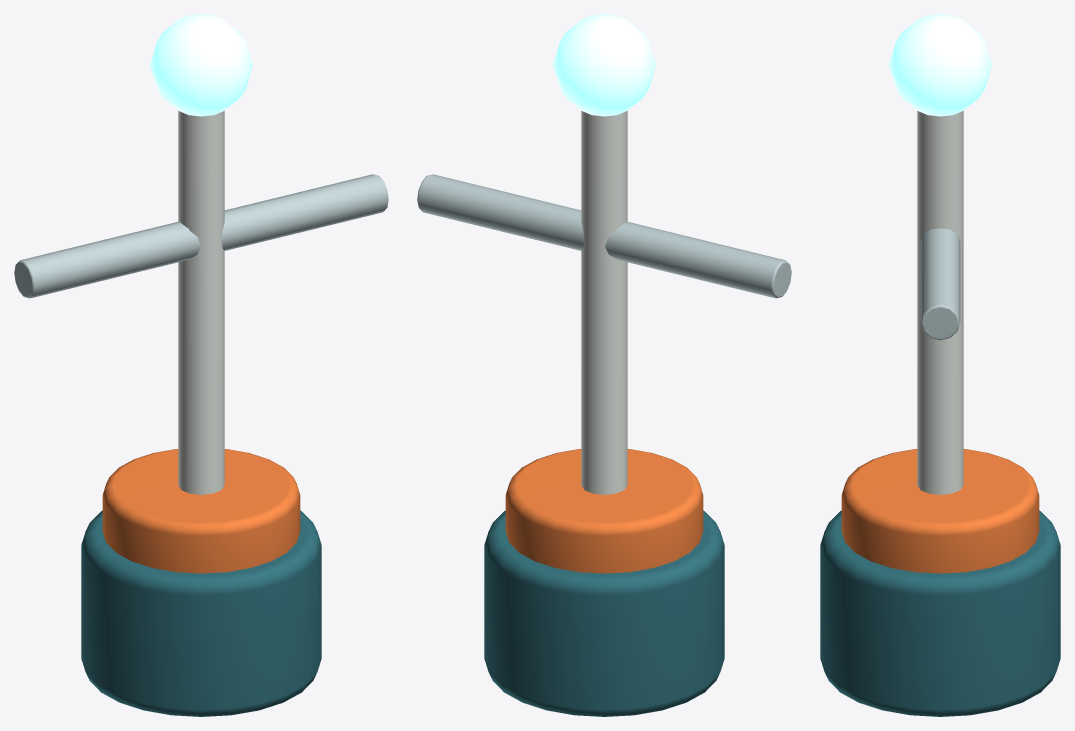
Rendered from Antenna_Part.glb.
The picture shows the model from 3 angles, left to right: view 1: azimuth 30°, elevation 25°; view 2: azimuth 150°, elevation 25°; view 3: azimuth 270°, elevation 25°; orthographic projection.
Parts seen in each view (by area): view 1: Connector base, Orange coupling, Antenna stem, Cross element, Safe antenna tip; view 2: Connector base, Orange coupling, Antenna stem, Cross element, Safe antenna tip; view 3: Connector base, Orange coupling, Antenna stem, Safe antenna tip, Cross element.
Part boxes in pixels (x1=…): Connector base: x1=81, y1=510, x2=321, y2=716; Orange coupling: x1=102, y1=449, x2=300, y2=573; Antenna stem: x1=178, y1=111, x2=224, y2=494; Cross element: x1=14, y1=174, x2=388, y2=298; Safe antenna tip: x1=150, y1=14, x2=252, y2=116; Connector base: x1=484, y1=510, x2=724, y2=716; Orange coupling: x1=505, y1=449, x2=703, y2=573; Antenna stem: x1=581, y1=111, x2=627, y2=494; Cross element: x1=417, y1=174, x2=791, y2=298; Safe antenna tip: x1=553, y1=14, x2=655, y2=116; Connector base: x1=820, y1=510, x2=1060, y2=716; Orange coupling: x1=841, y1=449, x2=1039, y2=573; Antenna stem: x1=917, y1=111, x2=963, y2=494; Safe antenna tip: x1=889, y1=14, x2=991, y2=116; Cross element: x1=920, y1=228, x2=960, y2=340.
Bounding box in the file's own units: 0.48 × 0.84 × 0.28.
